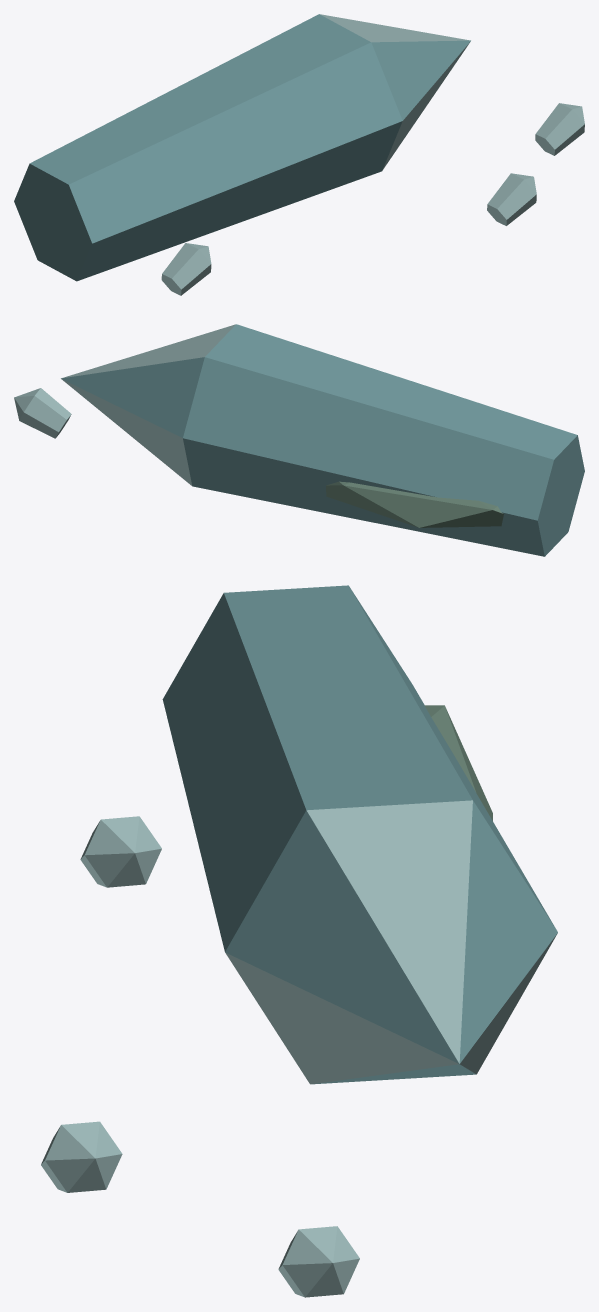
Rendered from fallen_prism.glb.
3 views of the same model, one above another, from view 1: azimuth 30°, elevation 25°; view 2: azimuth 150°, elevation 25°; view 3: azimuth 270°, elevation 25° (orthographic). The views are drawn at different scales.
Parts seen in each view (by area): view 1: fallen_prism; view 2: fallen_prism; view 3: fallen_prism.
Boxes of the visible parts, <box> form: fallen_prism: <box>14,14,584,295</box>; fallen_prism: <box>14,324,584,556</box>; fallen_prism: <box>41,585,557,1297</box>.
Bounding box in the file's own units: 1.27 × 0.3445 × 0.5228.
